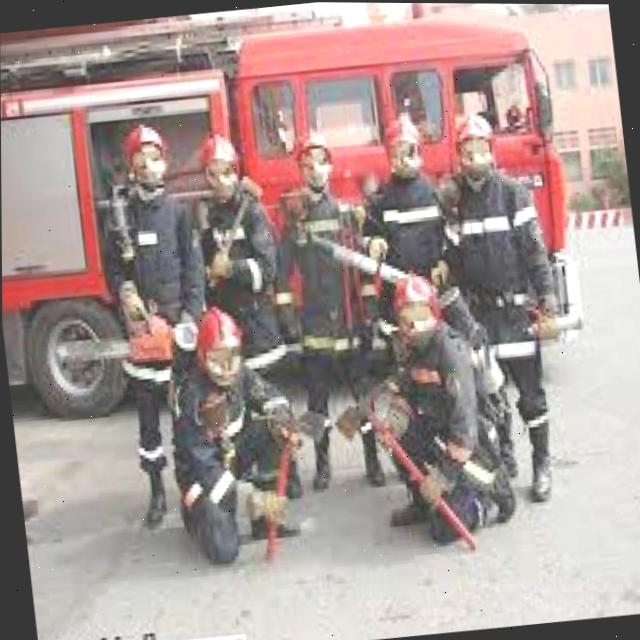emergency: (0, 4, 576, 406)
